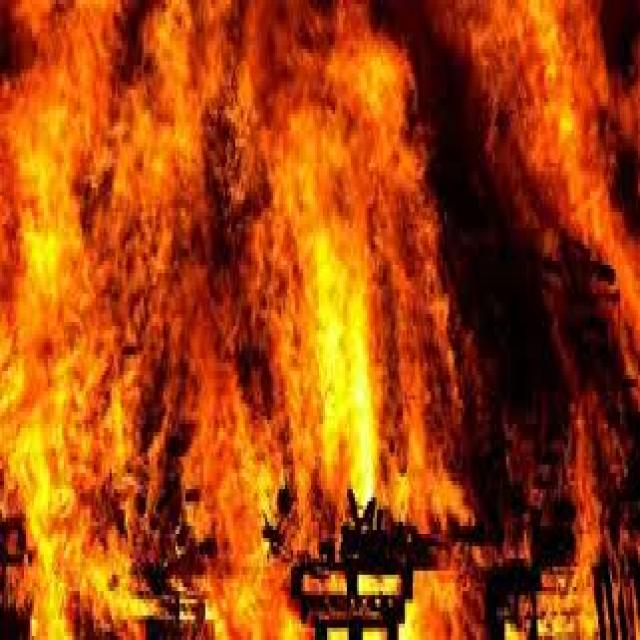helmet: (0, 0, 488, 620), (496, 0, 638, 632)
